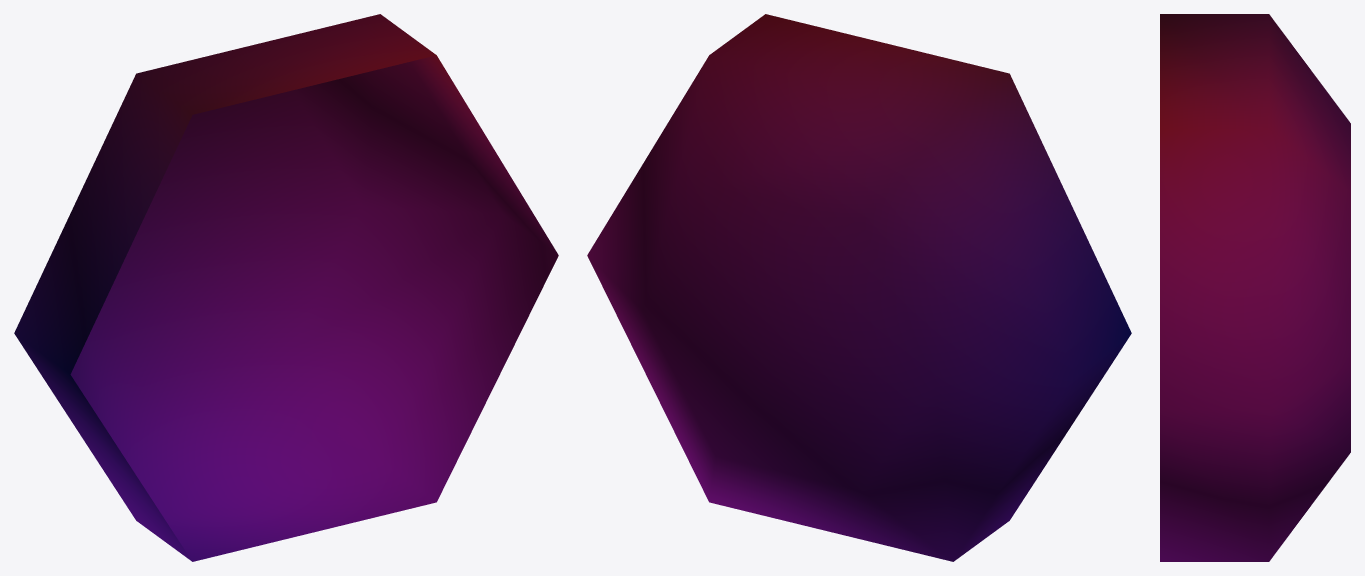
Rendered from model_2CCE.glb.
3 views of the same model, side by side, from view 1: azimuth 30°, elevation 25°; view 2: azimuth 150°, elevation 25°; view 3: azimuth 270°, elevation 25° (orthographic). The views are drawn at different scales.
Visible parts, largest first — view 1: part; view 2: part; view 3: part.
Boxes of the visible parts, box(x1,y1,x2,y2) form: part: box(14, 14, 558, 561); part: box(587, 14, 1131, 561); part: box(1160, 14, 1350, 561).
Size of the model in its own units: 5160 by 4515 by 1806.
